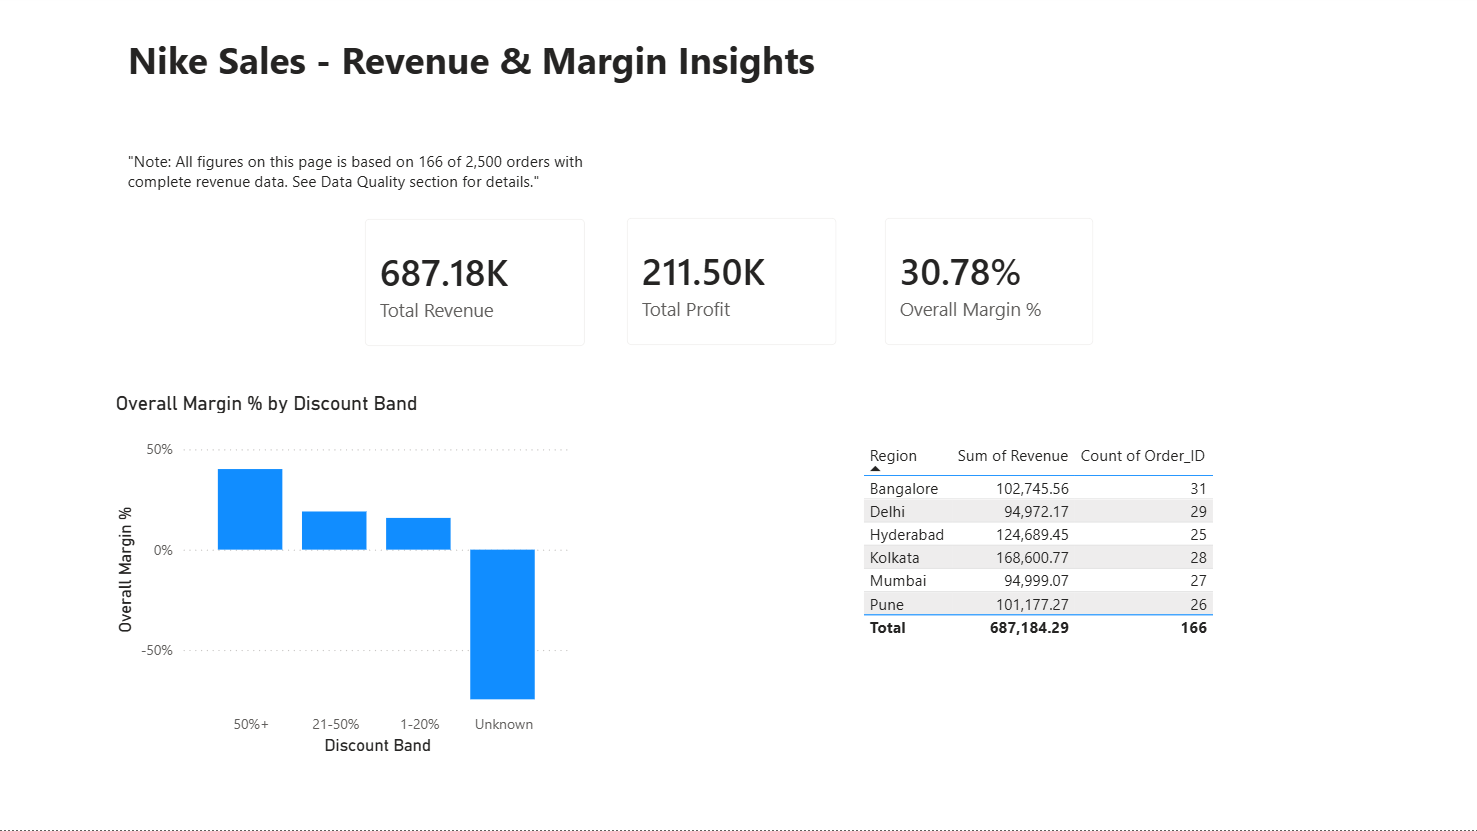

What the dashboard file says about the page in this screenshot:
{"tool":"powerbi","page":{"name":"Revenue & Margin Insights","canvas":[1280,720],"ordinal":1},"visuals":[{"type":"tableEx","fields":{"Values":["nike_sales_db nike_sales_clean.Region","Sum(nike_sales_db nike_sales_clean.Revenue)","CountNonNull(nike_sales_db nike_sales_clean.Order_ID)"]},"box":[743.5,382.1,416.6,237.2],"z":0},{"type":"cardVisual","fields":{"Data":["Sum(nike_sales_db nike_sales_clean.Revenue)"]},"box":[301.9,176,224.3,144.9],"z":1000},{"type":"cardVisual","fields":{"Data":["Sum(nike_sales_db nike_sales_clean.Profit)"]},"box":[527.9,175.1,215.6,144],"z":2000},{"type":"cardVisual","fields":{"Data":["nike_sales_db nike_sales_clean.Overall Margin %"]},"box":[750.4,175.1,214.8,144],"z":3000},{"type":"clusteredColumnChart","fields":{"Category":["nike_sales_db nike_sales_clean.Discount_Band_2"],"Y":["nike_sales_db nike_sales_clean.Overall Margin %"]},"box":[99.2,341.6,402.8,318.3],"z":4000},{"type":"textbox","box":[109.5,28.5,688.3,75.9],"z":5000},{"type":"textbox","box":[1040,0,240,150],"z":8000},{"type":"textbox","box":[109.5,129.4,416.6,46.6],"z":10000}]}

Visuals, with their boxes in screenshot pixels (x1, y1, x2, y2), scaled from the page's 1280x720 canvas onto the 1477x831 screenshot:
tableEx - nike_sales_db nike_sales_clean.Region x Sum(nike_sales_db nike_sales_clean.Revenue): (858, 441, 1339, 715)
cardVisual - Sum(nike_sales_db nike_sales_clean.Revenue): (348, 203, 607, 370)
cardVisual - Sum(nike_sales_db nike_sales_clean.Profit): (609, 202, 858, 368)
cardVisual - nike_sales_db nike_sales_clean.Overall Margin %: (866, 202, 1114, 368)
clusteredColumnChart - nike_sales_db nike_sales_clean.Discount_Band_2 x nike_sales_db nike_sales_clean.Overall Margin %: (114, 394, 579, 762)
textbox: (126, 33, 921, 120)
textbox: (1200, 0, 1476, 173)
textbox: (126, 149, 607, 203)
